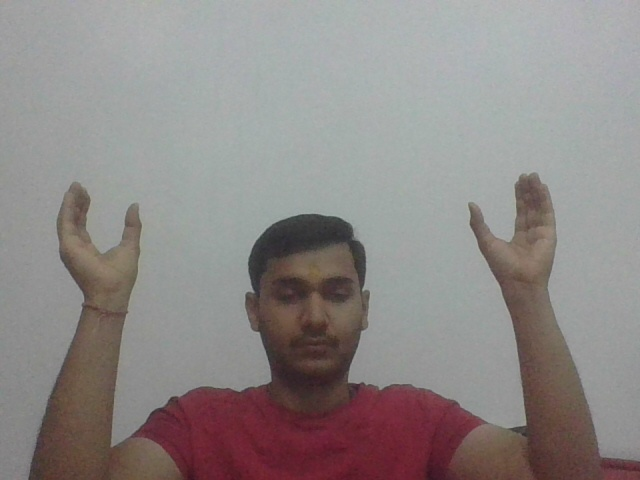U: (49, 178, 149, 299), (463, 170, 563, 289)
